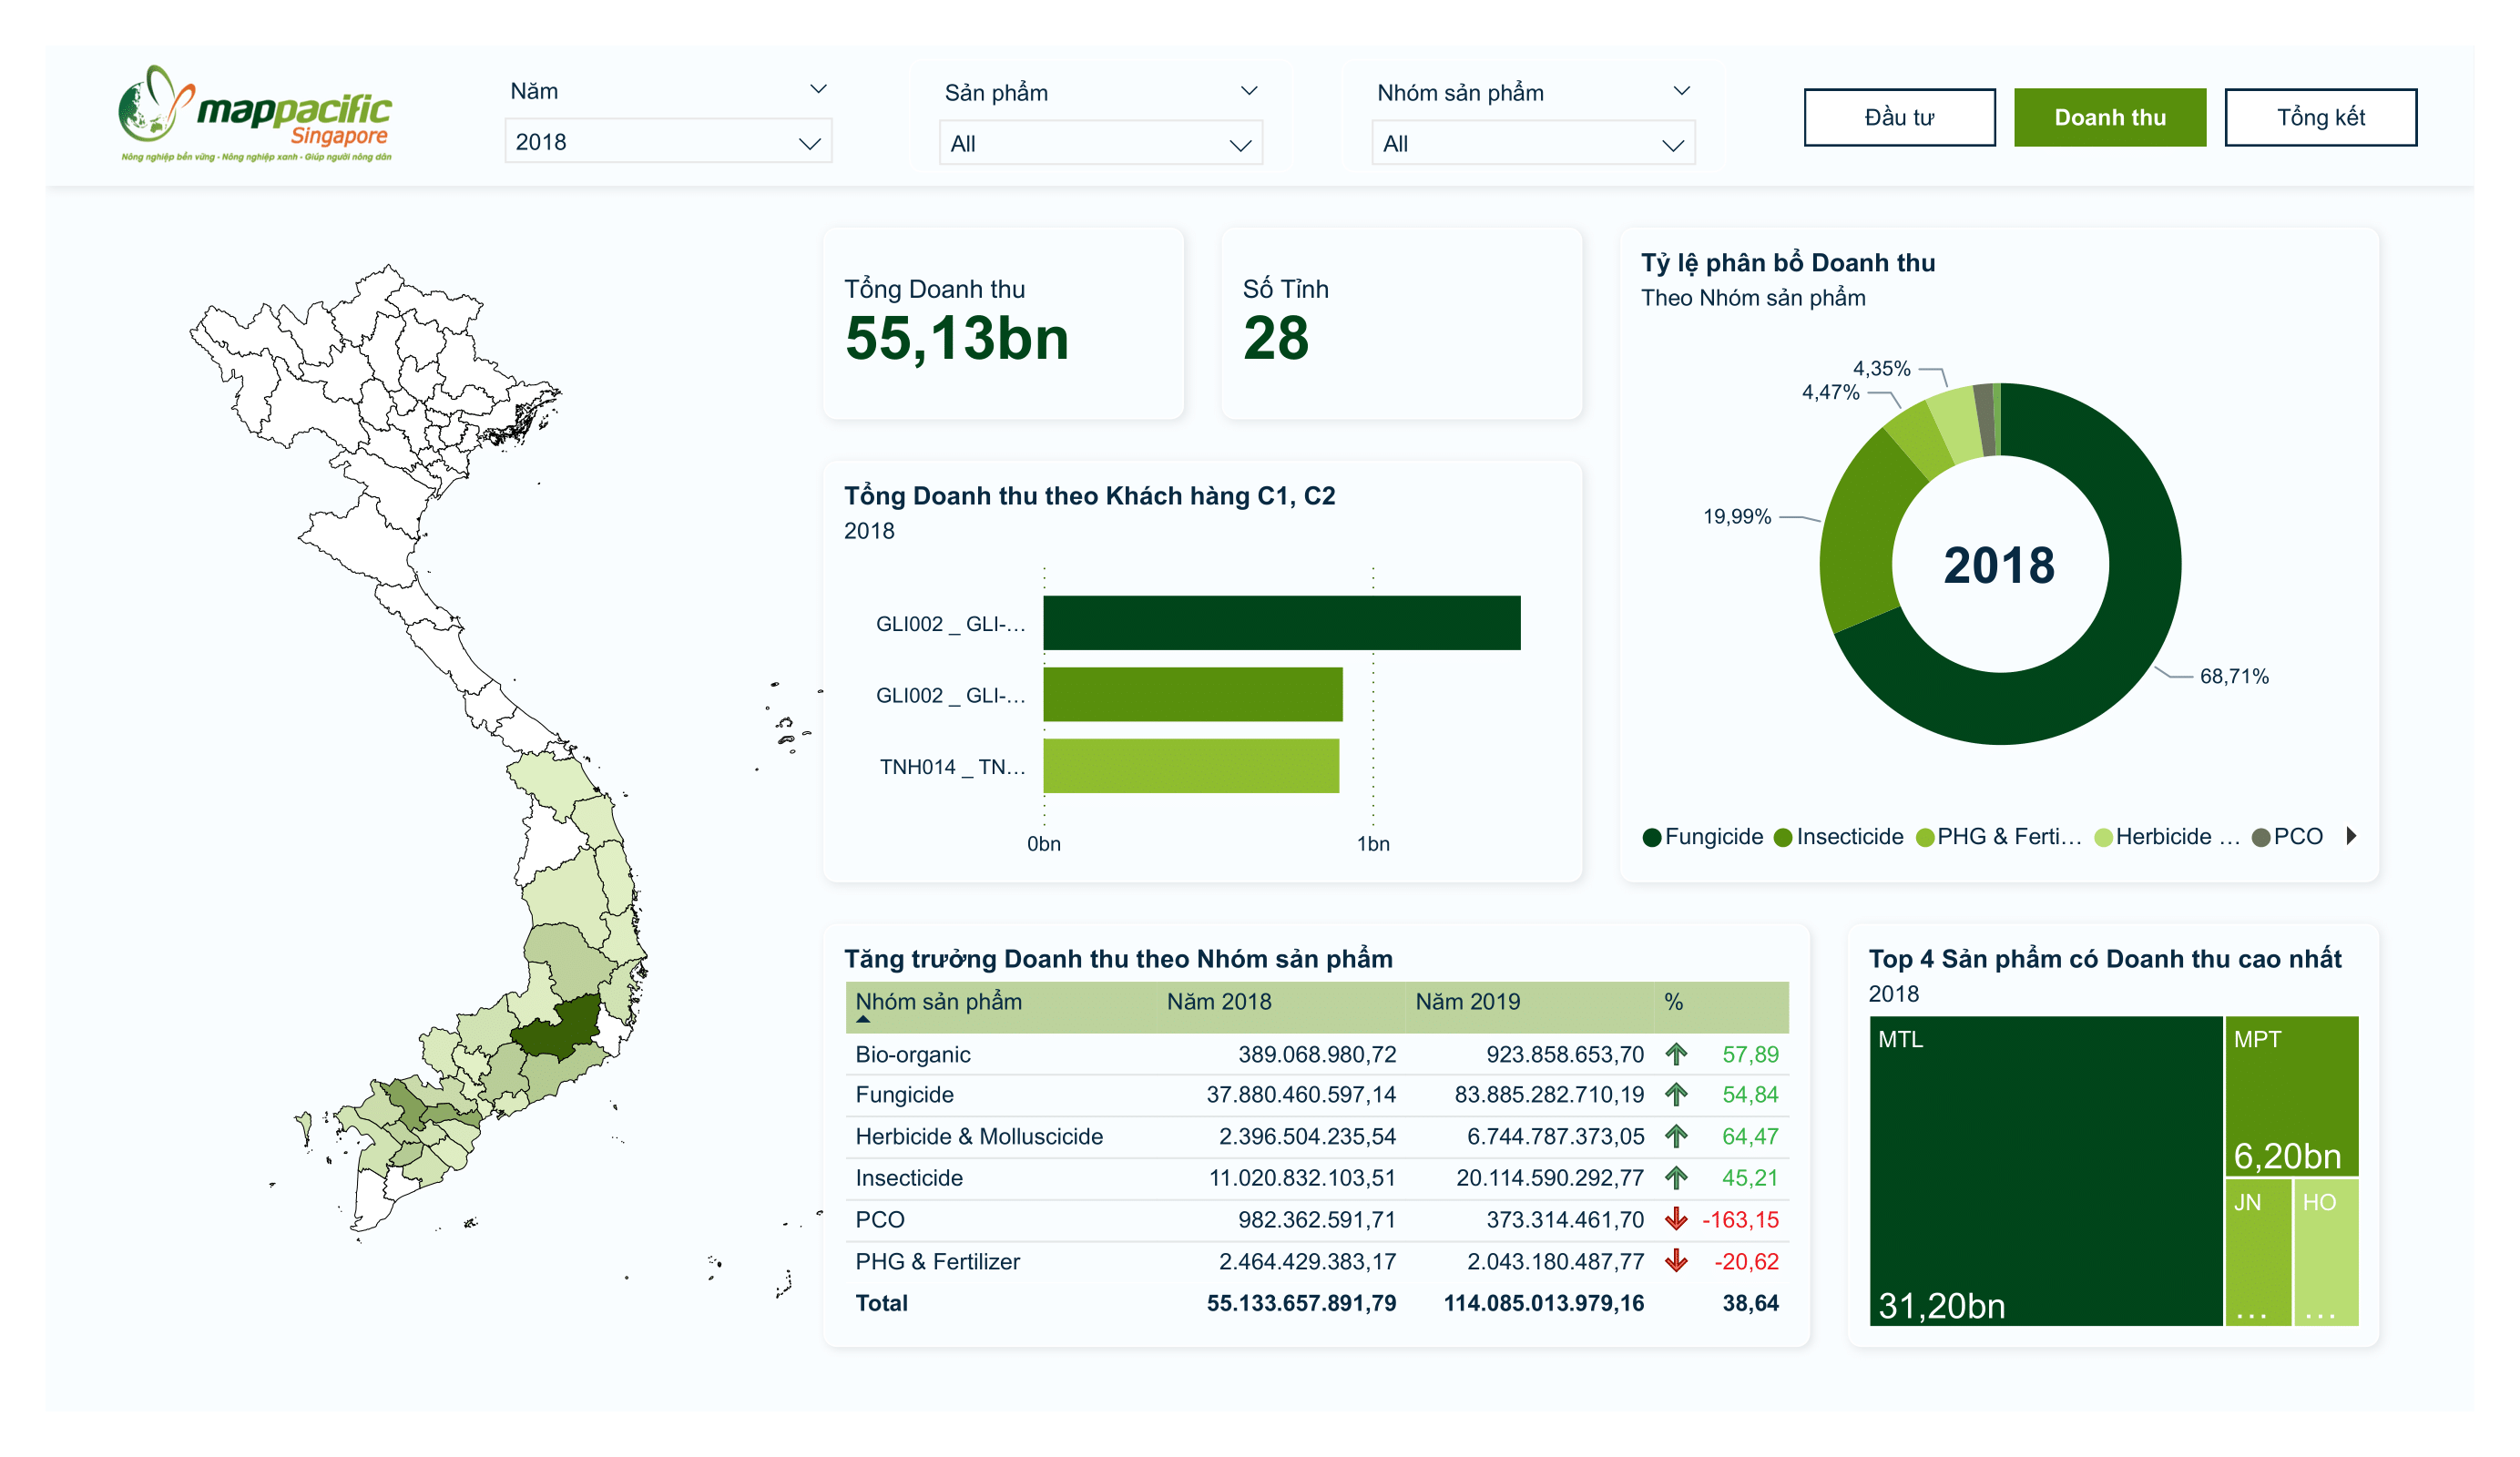

This screenshot's page, from the dashboard's own definition file:
{"tool":"powerbi","page":{"name":"Doanh thu","canvas":[1280,720],"ordinal":1},"visuals":[{"type":"shape","box":[0,0,1280,74.3],"z":0},{"type":"treemap","title":"Top 4 Sản phẩm có Doanh thu cao nhất","fields":{"Values":["Sum(revenue_cleaned.Doanh thu)"],"Group":["revenue_cleaned.Sản phẩm"]},"box":[950,462.5,280,223.8],"z":1000},{"type":"donutChart","title":"Tỷ lệ phân bổ Doanh thu","fields":{"Category":["revenue_cleaned.Nhóm sản phẩm"],"Y":["Sum(revenue_cleaned.Doanh thu)"]},"box":[830,95.7,400,345.7],"z":2000},{"type":"shapeMap","fields":{"Category":["revenue_cleaned.Tỉnh"],"Value":["Sum(revenue_cleaned.Doanh thu)"]},"box":[0,74.3,640,645.7],"z":3000},{"type":"tableEx","title":"Tăng trưởng Doanh thu theo Nhóm sản phẩm","fields":{"Values":["revenue_growth_by_categories.Nhóm sản phẩm","Sum(revenue_growth_by_categories.Năm 2018)","Sum(revenue_growth_by_categories.Năm 2019)","Sum(revenue_growth_by_categories.%)"]},"box":[410,462.5,520,223.8],"z":4000},{"type":"cardVisual","fields":{"Data":["Sum(revenue_cleaned.Doanh thu)"]},"box":[410,95.6,190,101.1],"z":5000},{"type":"slicer","fields":{"Values":["revenue_cleaned.Năm"]},"box":[227.1,7.1,202.9,60],"z":6000},{"type":"slicer","fields":{"Values":["revenue_cleaned.Nhóm sản phẩm"]},"box":[682.9,7.1,202.9,60],"z":7000},{"type":"slicer","fields":{"Values":["revenue_cleaned.Sản phẩm"]},"box":[455,7.1,202.9,60],"z":8000},{"type":"barChart","title":"Tổng Doanh thu theo Khách hàng C1, C2","fields":{"Category":["C1_C2_&_Revenue.KHC1_KHC2"],"Y":["Sum(C1_C2_&_Revenue.Tổng Doanh thu)"]},"box":[410,218.6,400,222.9],"z":9000},{"type":"cardVisual","fields":{"Data":["Count(revenue_cleaned.Tỉnh)"]},"box":[620,95.6,190,101.1],"z":10000},{"type":"image","box":[0,0,227.1,74.3],"z":11000},{"type":"card","fields":{"Values":["revenue_cleaned.select_year_revenue"]},"box":[830,107.1,400,334.3],"z":12000},{"type":"pageNavigator","box":[917.1,12.9,344.3,50],"z":13000}]}

Visuals, with their boxes in screenshot pixels (x1, y1, x2, y2):
shape: bbox=(46, 46, 2474, 187)
"Top 4 Sản phẩm có Doanh thu cao nhất" treemap: bbox=(1848, 923, 2380, 1348)
"Tỷ lệ phân bổ Doanh thu" donutChart: bbox=(1620, 227, 2380, 883)
shapeMap - revenue_cleaned.Tỉnh x Sum(revenue_cleaned.Doanh thu): bbox=(46, 187, 1260, 1411)
"Tăng trưởng Doanh thu theo Nhóm sản phẩm" tableEx: bbox=(823, 923, 1811, 1348)
cardVisual - Sum(revenue_cleaned.Doanh thu): bbox=(823, 227, 1184, 419)
slicer - revenue_cleaned.Năm: bbox=(476, 59, 862, 173)
slicer - revenue_cleaned.Nhóm sản phẩm: bbox=(1342, 59, 1727, 173)
slicer - revenue_cleaned.Sản phẩm: bbox=(909, 59, 1294, 173)
"Tổng Doanh thu theo Khách hàng C1, C2" barChart: bbox=(823, 460, 1583, 883)
cardVisual - Count(revenue_cleaned.Tỉnh): bbox=(1222, 227, 1583, 419)
image: bbox=(46, 46, 476, 187)
card - revenue_cleaned.select_year_revenue: bbox=(1620, 249, 2380, 883)
pageNavigator: bbox=(1786, 70, 2439, 165)
